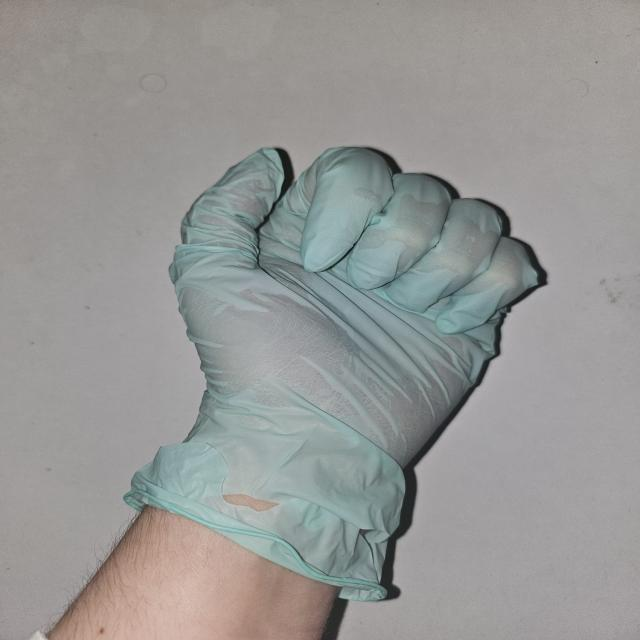gloves_damaged: (121, 145, 544, 598)
